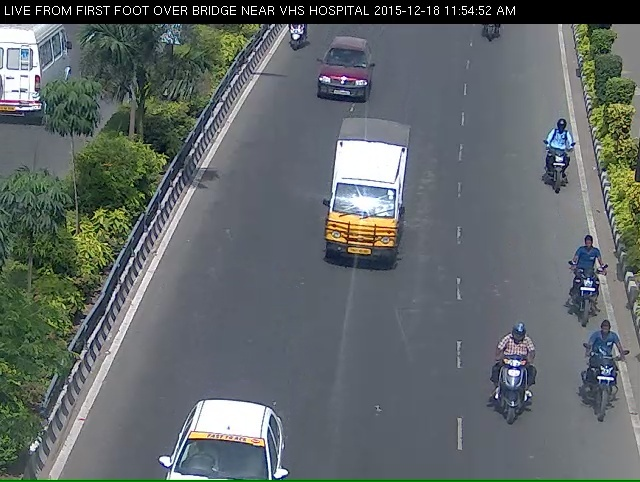Auto: (319, 128, 408, 300)
Car: (309, 42, 367, 112)
Person: (475, 340, 544, 463), (582, 348, 635, 450), (560, 246, 606, 342), (542, 125, 577, 210), (270, 19, 303, 64)
